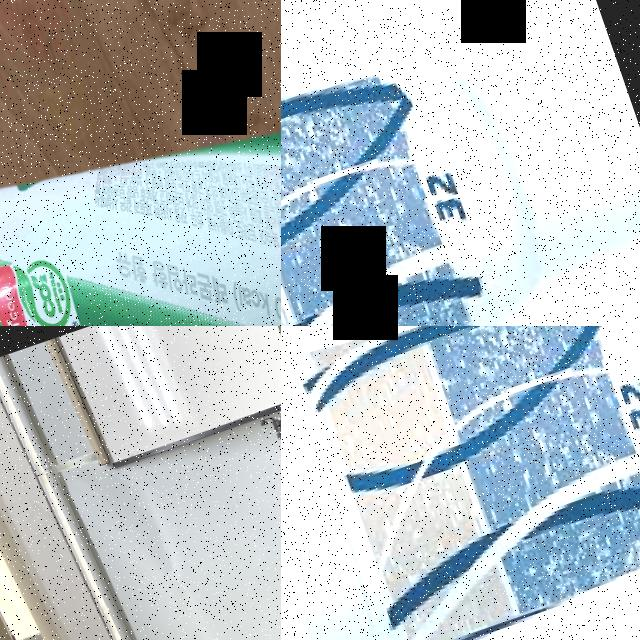can: (0, 40, 281, 326)
cup: (281, 0, 640, 326), (281, 326, 640, 640)
